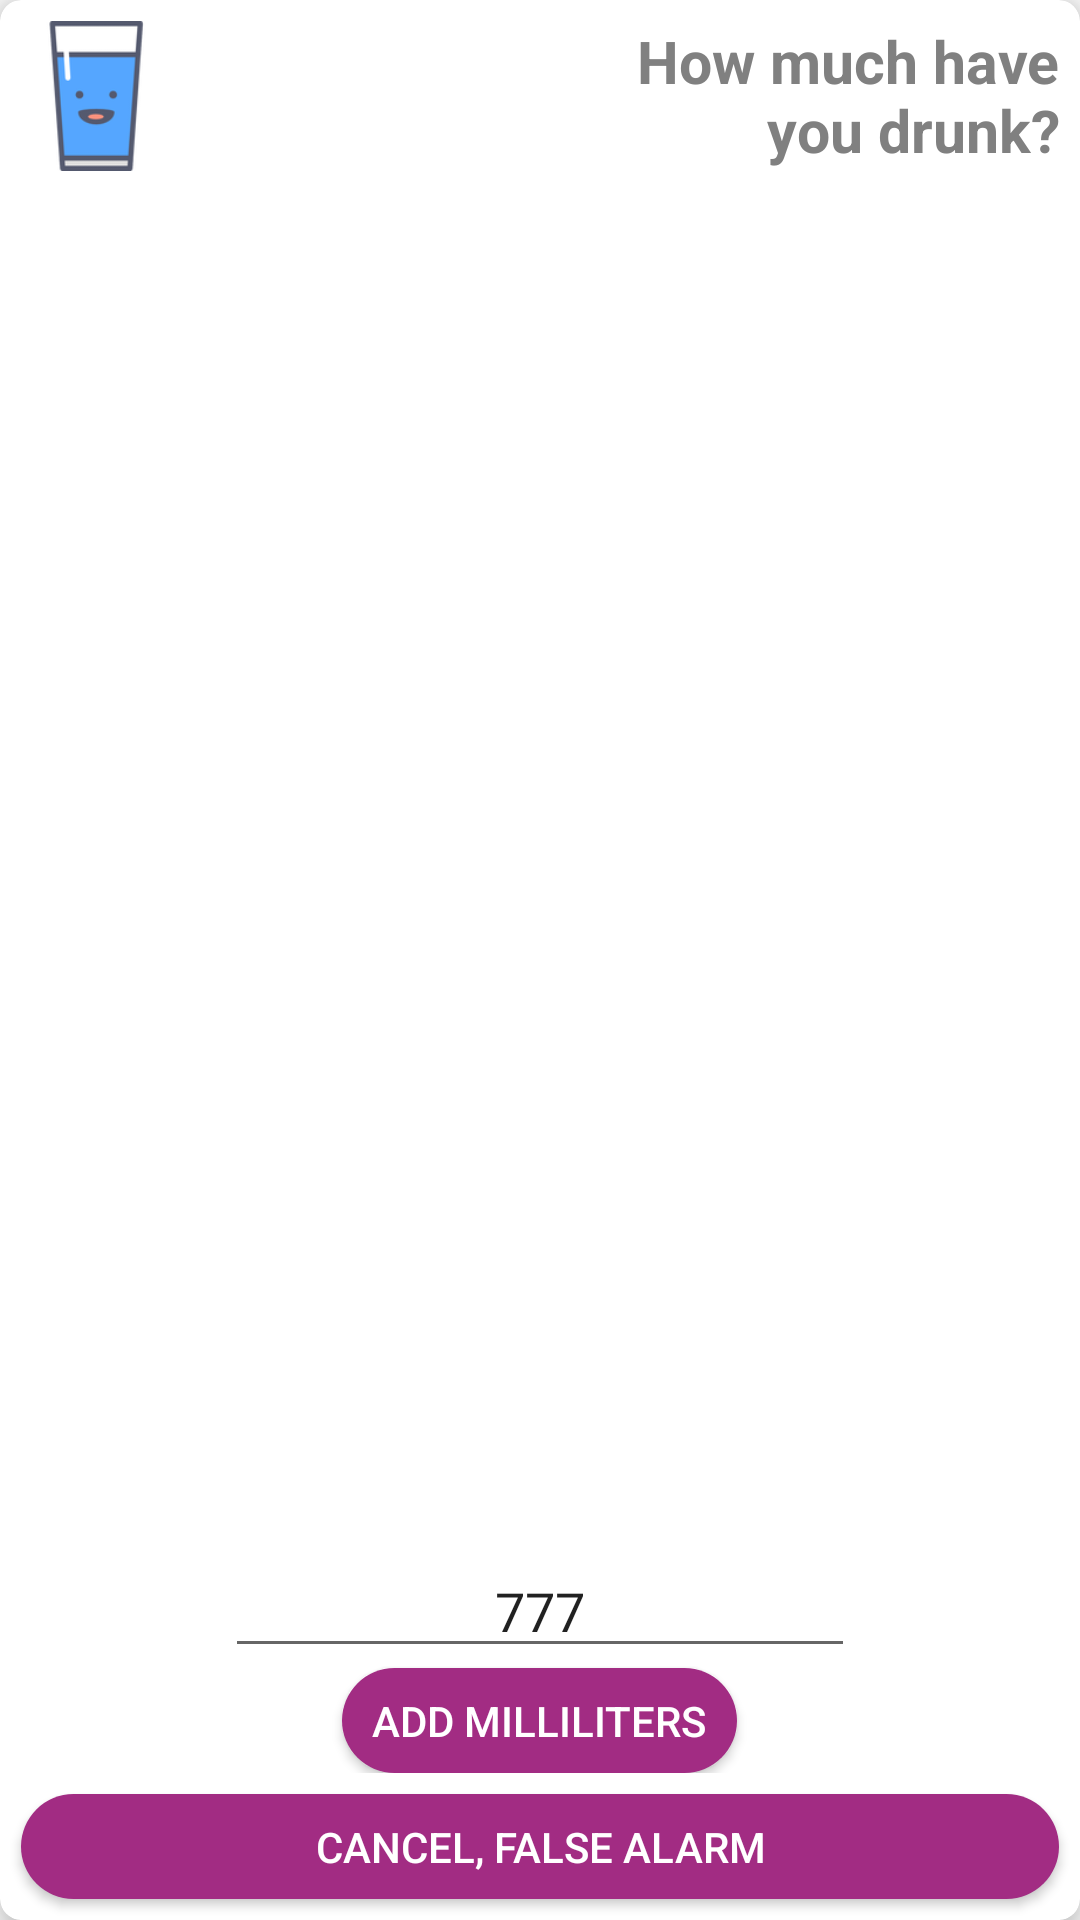

Named icons in this screenshot (1080px x 1920px) and their centers, [x,y]:
glass of water: [96,96]
